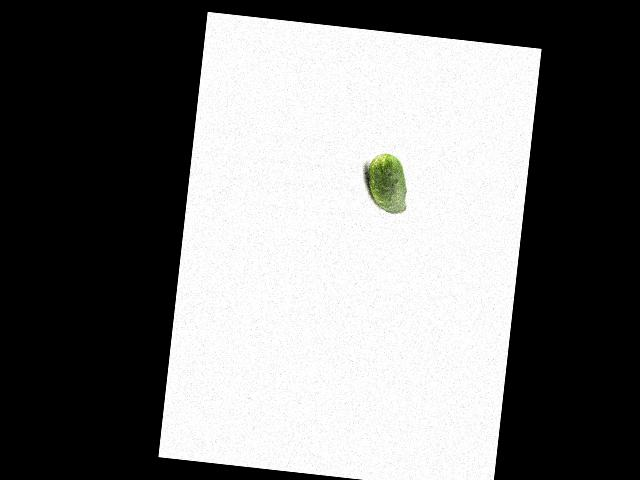cucumber: (363, 151, 411, 215)
